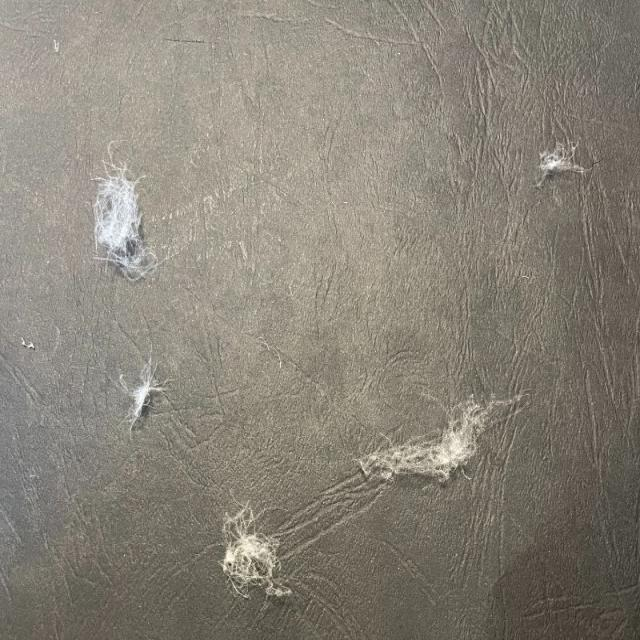feather: (354, 396, 498, 484), (90, 154, 156, 280), (216, 506, 289, 600), (120, 348, 158, 439), (537, 136, 593, 182)
